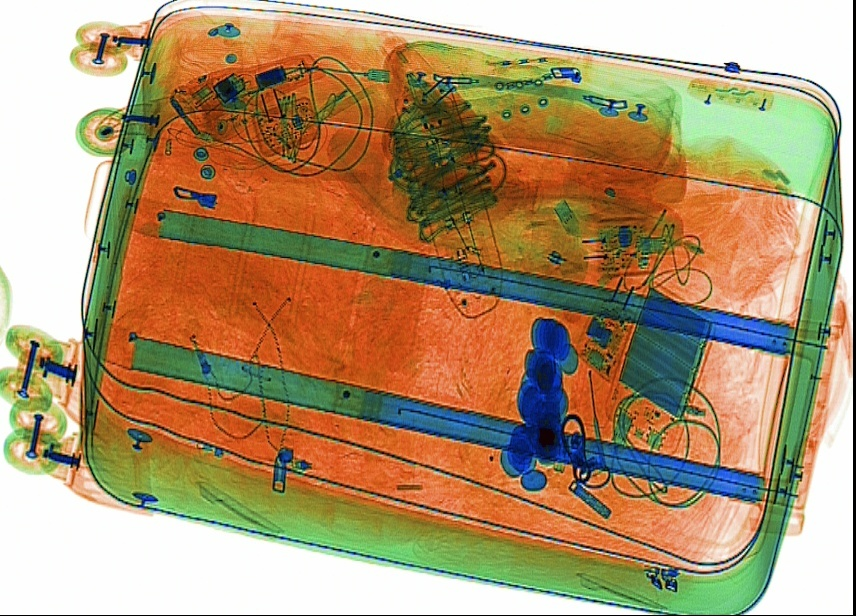powerbank: (602, 279, 718, 452)
